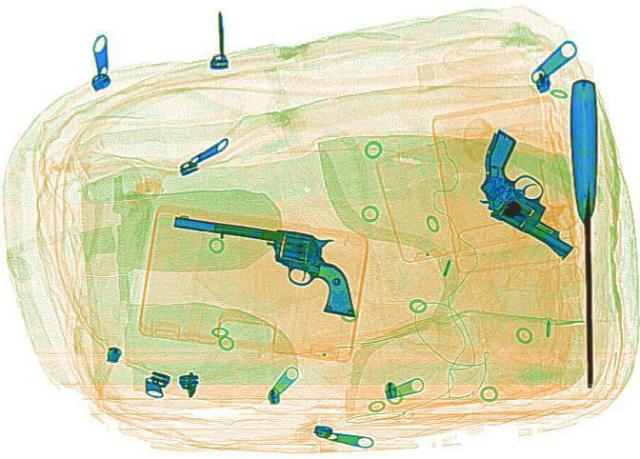Gun: (424, 127, 632, 258), (150, 211, 378, 316)
Knife: (566, 78, 610, 387)
